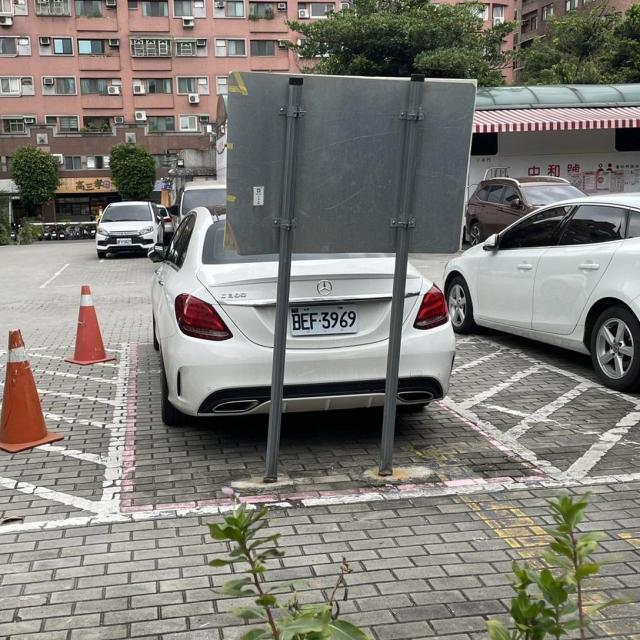W: (280, 302, 362, 339)
